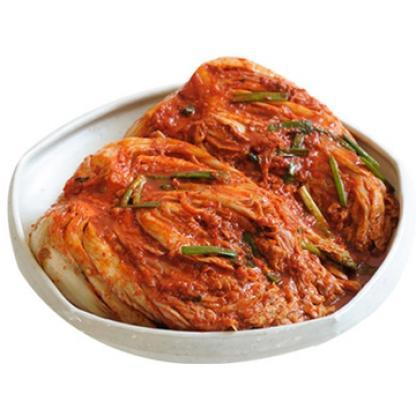kimchi: (36, 126, 366, 336), (110, 50, 404, 250)
